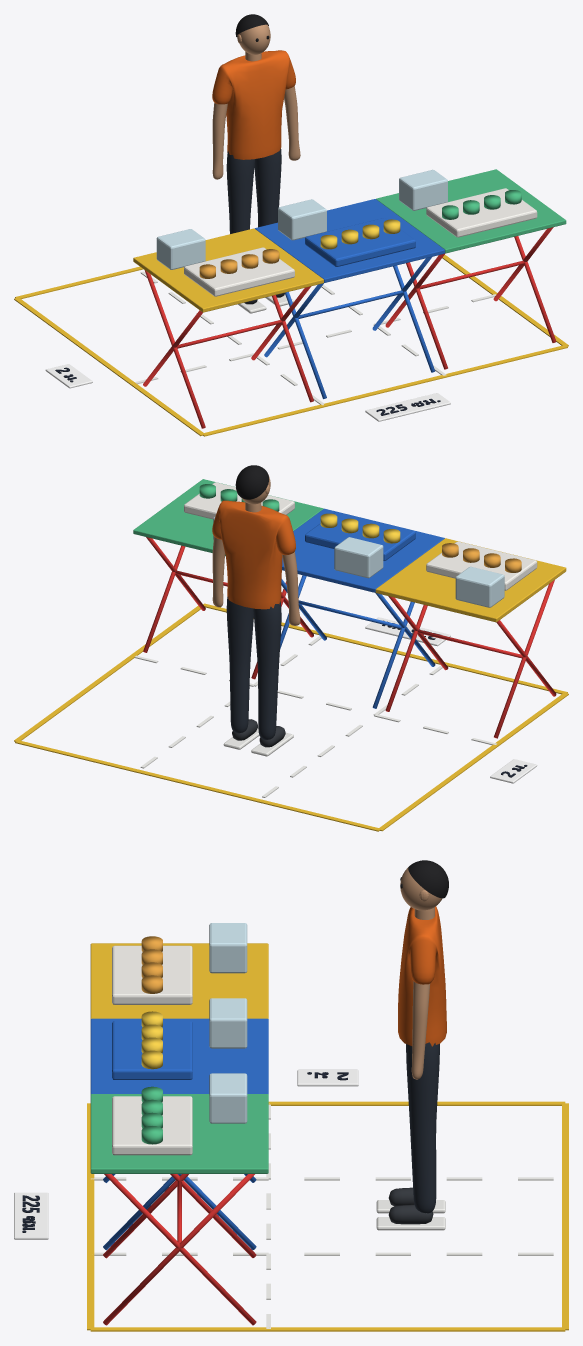
The model's file is lot-food-3.glb.
The picture shows the model from 3 angles, top to bottom: view 1: azimuth 30°, elevation 25°; view 2: azimuth 150°, elevation 25°; view 3: azimuth 270°, elevation 25°; orthographic projection. The views are drawn at different scales.
Parts seen in each view (by area): view 1: sk.002, Cube, Cube.006, Cube.003, Cube.001, Cube.007, Cube.004, sk, sk.001, Cube.002, Cube.005, Cube.008 (+13 smaller); view 2: sk.002, Cube, Cube.003, Cube.006, sk, sk.001, Cube.001, Cube.004, Cube.002, Cube.005, Cube.012, Cube.010 (+13 smaller); view 3: Cube.006, Cube.003, Cube, sk.002, sk.001, Cube.007, Cube.001, Cube.004, Cube.011, Cube.005, Cube.008, Cube.002 (+14 smaller).
Boxes of the visible parts, x1,y1,x2,y2 form: sk.002: (212, 50, 295, 159); Cube: (133, 228, 323, 312); Cube.006: (376, 169, 566, 253); Cube.003: (254, 199, 444, 282); Cube.001: (184, 247, 294, 296); Cube.007: (426, 188, 537, 237); Cube.004: (305, 218, 415, 266); sk: (226, 151, 255, 233); sk.001: (254, 148, 281, 227); Cube.002: (156, 229, 205, 269); Cube.005: (278, 199, 326, 240); Cube.008: (399, 169, 447, 210); sk.002: (212, 500, 295, 609); Cube: (375, 538, 566, 622); Cube.003: (282, 508, 444, 592); Cube.006: (133, 479, 323, 556); sk: (253, 601, 281, 739); sk.001: (226, 596, 253, 733); Cube.001: (426, 541, 537, 590); Cube.004: (305, 512, 415, 560); Cube.002: (455, 566, 504, 607); Cube.005: (334, 537, 383, 578); Cube.012: (15, 740, 380, 831); Cube.010: (379, 693, 568, 831); Cube.006: (90, 1094, 268, 1173); Cube.003: (90, 1018, 268, 1094); Cube: (90, 943, 268, 1018); sk.002: (398, 906, 446, 1046); sk.001: (406, 1042, 439, 1213); Cube.007: (112, 1096, 192, 1155); Cube.001: (112, 945, 192, 1004); Cube.004: (112, 1021, 192, 1079); Cube.011: (90, 1327, 565, 1331); Cube.005: (209, 998, 247, 1048); Cube.008: (209, 1073, 247, 1123); Cube.002: (209, 923, 247, 973).
Size of the model in its own units: 2.59 by 1.65 by 2.34.
